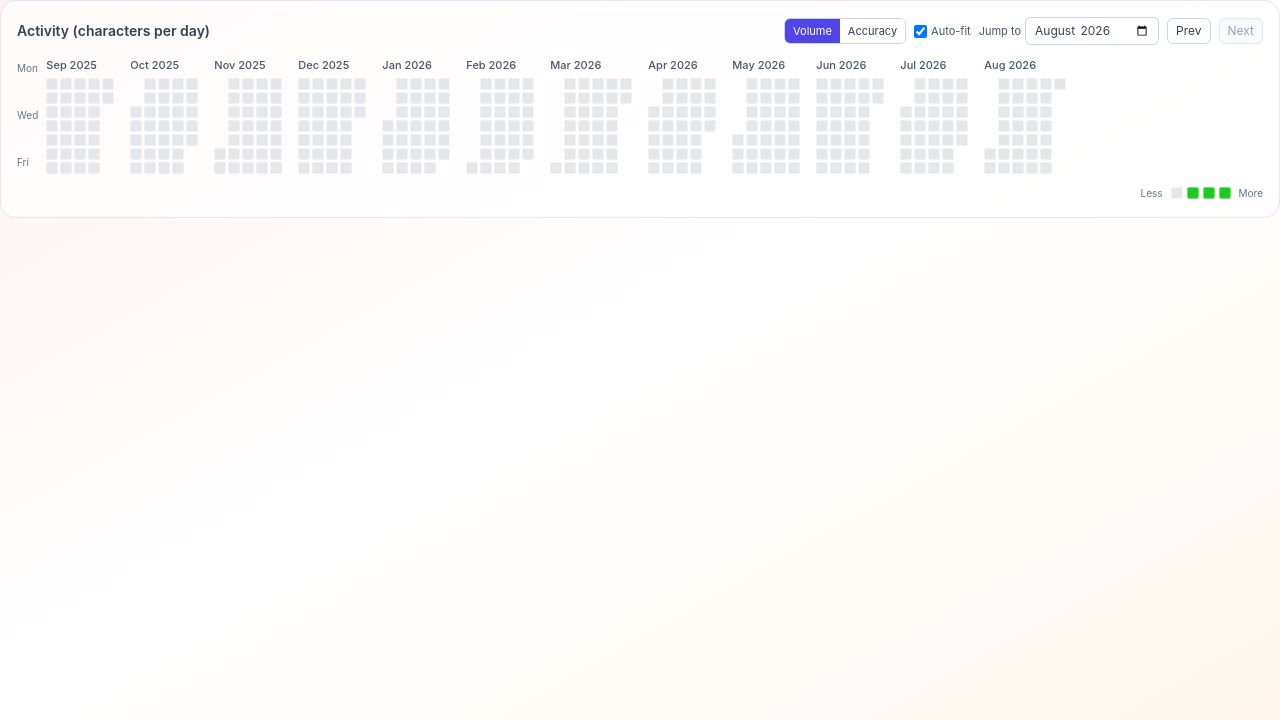
it: ActivityHeatmap › should switch between volume and accuracy color modes
Expected: the heading "Activity (characters per day)" is shown, [17,21,210,41]
Click the button "accuracy".
click(872, 31)  # box [840,19,905,43]
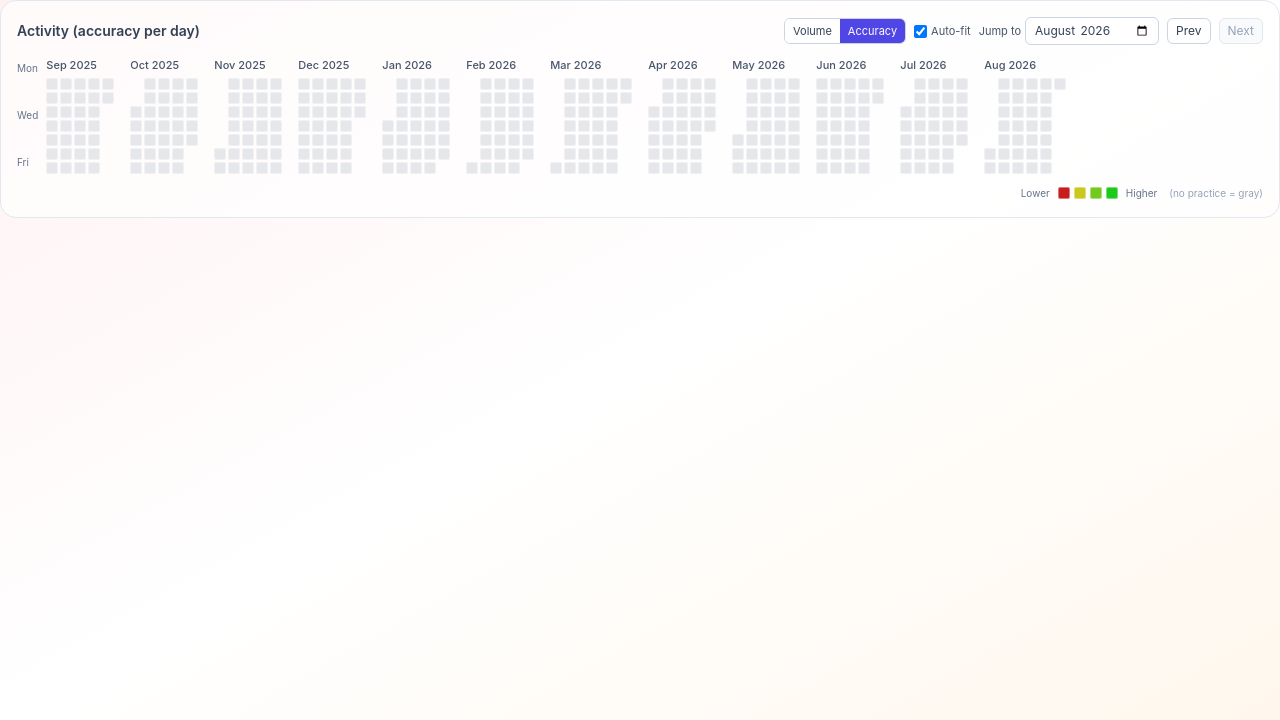
Now the heading "Activity (accuracy per day)" is shown, box [17,21,200,41]
Now the text "(no practice = gray)" is shown, box [1169,186,1263,200]
